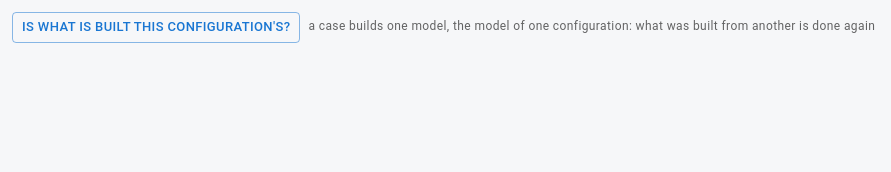
Test: what saving the draft would cost › says so when everything that is built was built from the saved configuration
Click the button with test id "consequences-check" at (156, 27), box [12, 12, 300, 43]
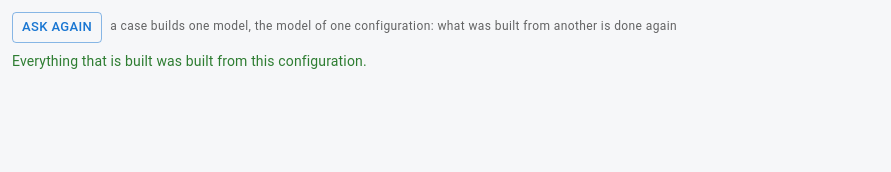
Expected: the text with test id "consequences-whole" reads "Everything that is built was built from this configuration.", [12, 53, 367, 69]
